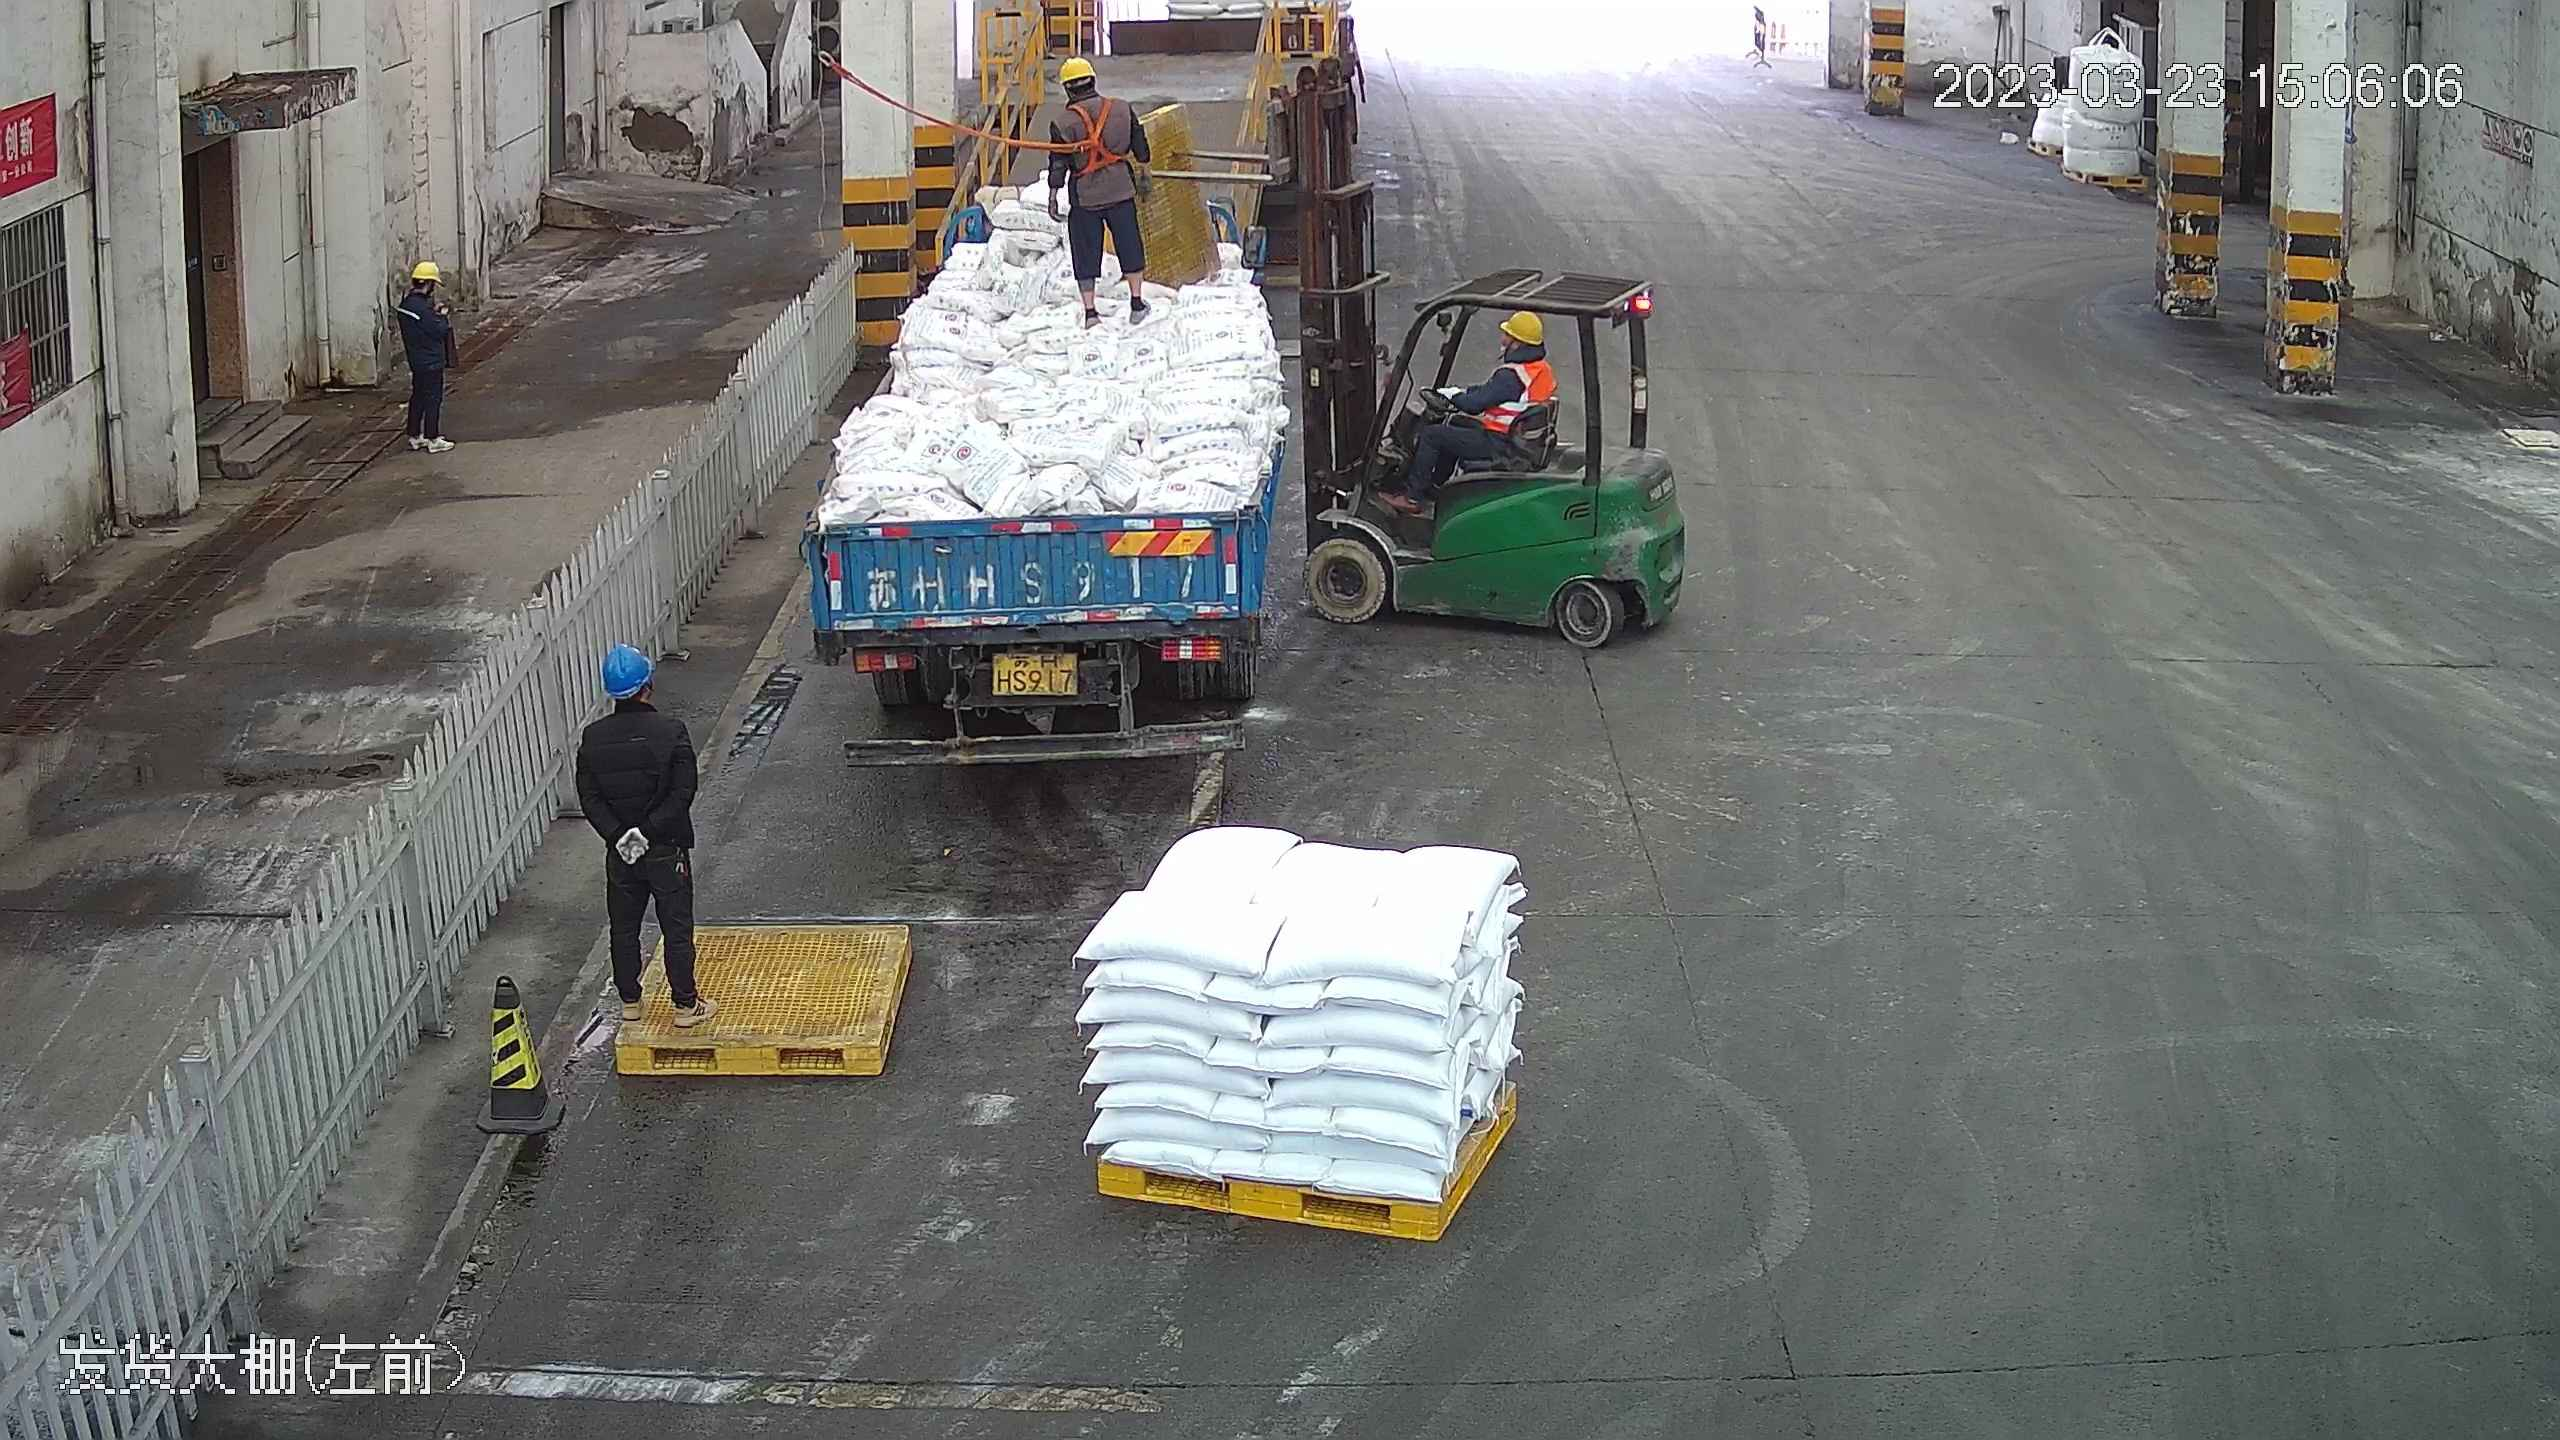belt: (1064, 100, 1134, 172)
head: (575, 641, 690, 759), (1046, 56, 1135, 138), (1487, 310, 1552, 396), (393, 259, 450, 323)
helmet: (600, 639, 657, 690), (1501, 310, 1543, 345), (1056, 56, 1098, 86), (406, 258, 438, 282)
people: (573, 639, 717, 1020), (1041, 58, 1156, 325), (1404, 308, 1550, 501), (389, 254, 460, 448)
truck: (804, 15, 1298, 770)
